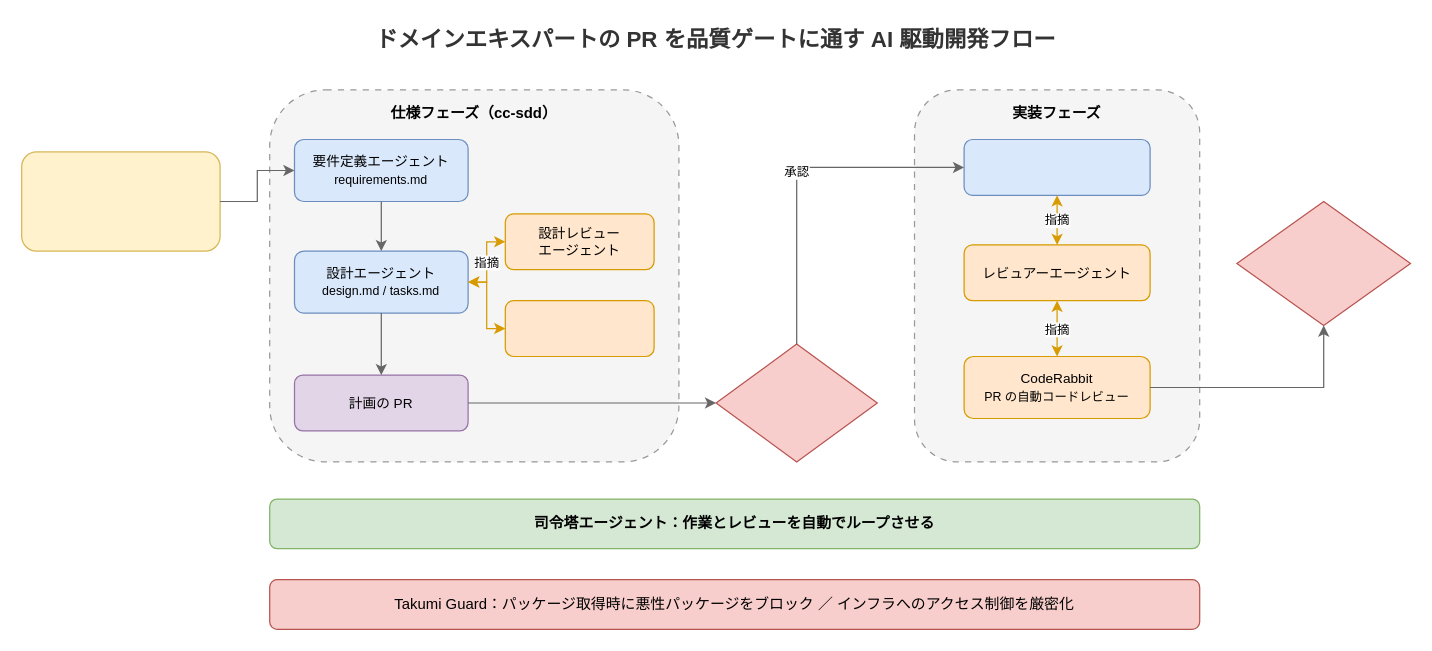
Some shapes in this 1432 by 651 pixel diagram are drawn without their labels. The centre of each missing label's shape, as x and y in pixels:
"CTO が 計画をレビュー" goes at point (796, 402).
"アーキテクト エージェント" goes at point (579, 327).
"ドメインエキスパート （非エンジニアの社長） Claude Code で作りたいもの を伝える" goes at point (120, 201).
"人間は リリース判断" goes at point (1323, 263).
"実装エージェント" goes at point (1056, 166).
